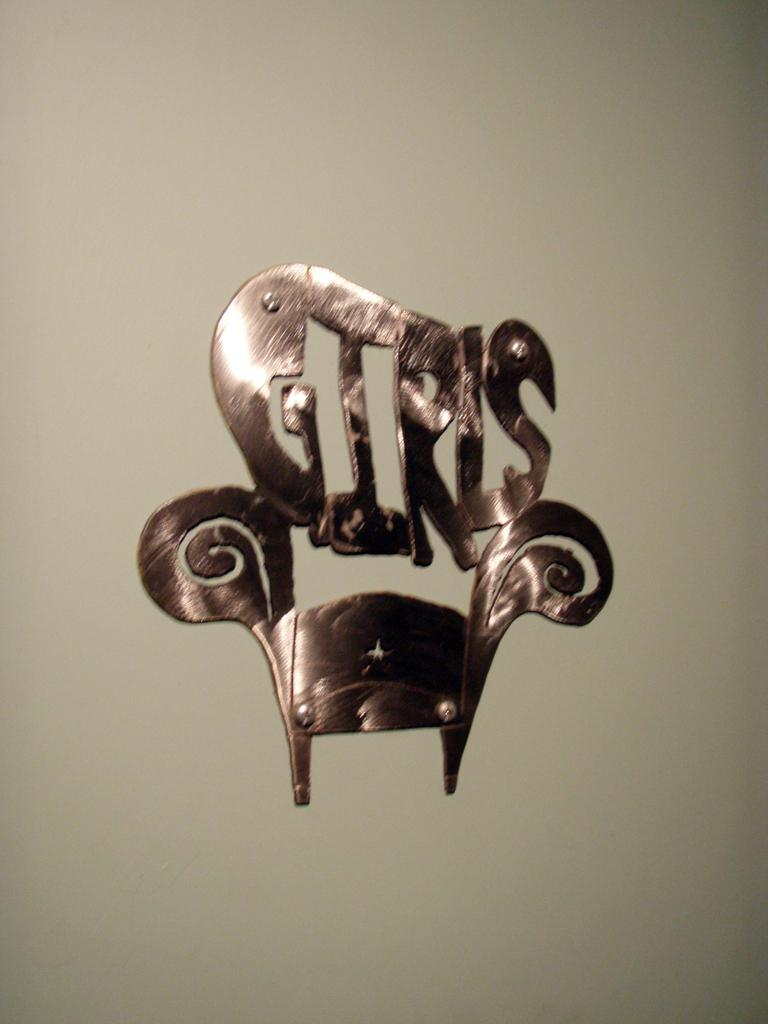Chair: (126, 260, 617, 809)
